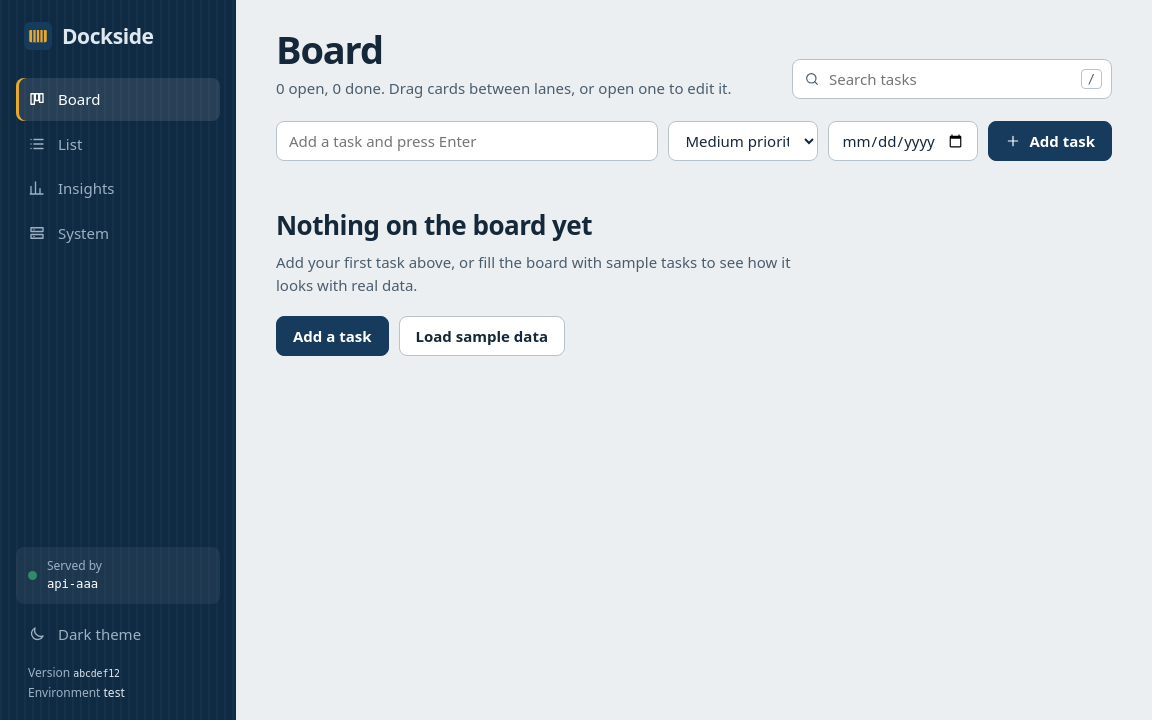
Test: board › offers sample data on an empty board
This screenshot has width=1152, height=720.
Expected: the heading "Nothing on the board yet" is shown, [276,207,592,243]
Click the button "Load sample data".
click(482, 336)  # box [398,316,565,356]
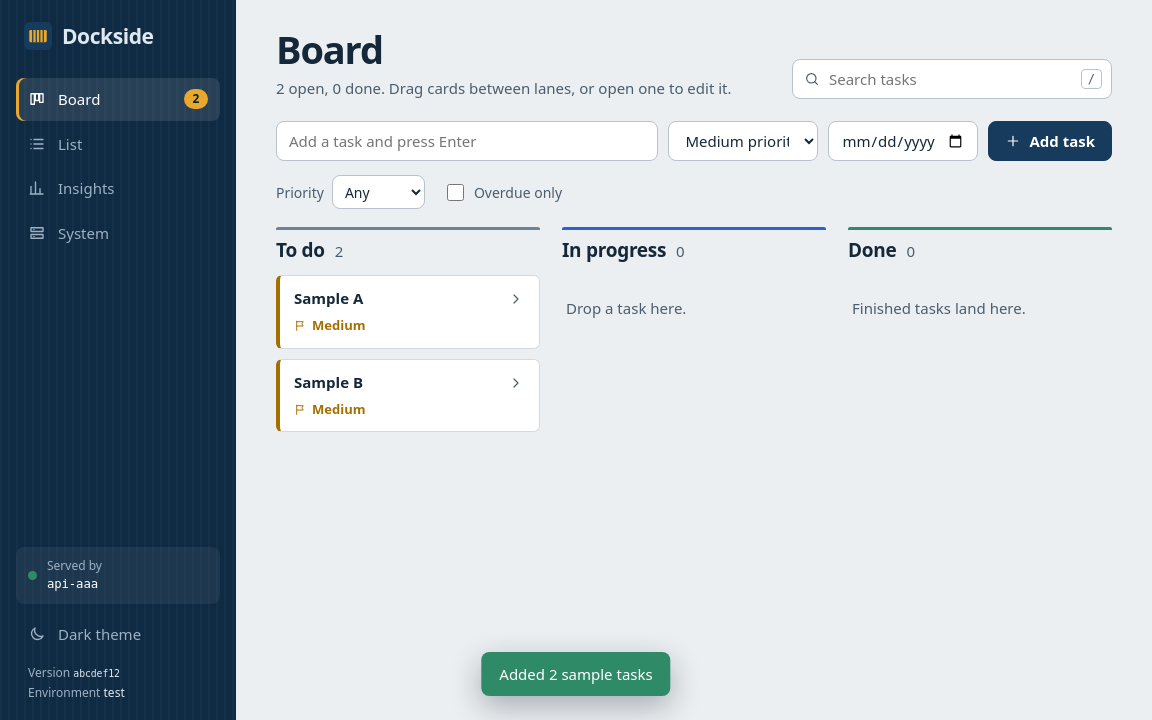
Now the button "Sample A" is shown, box [294,288,495,308]
